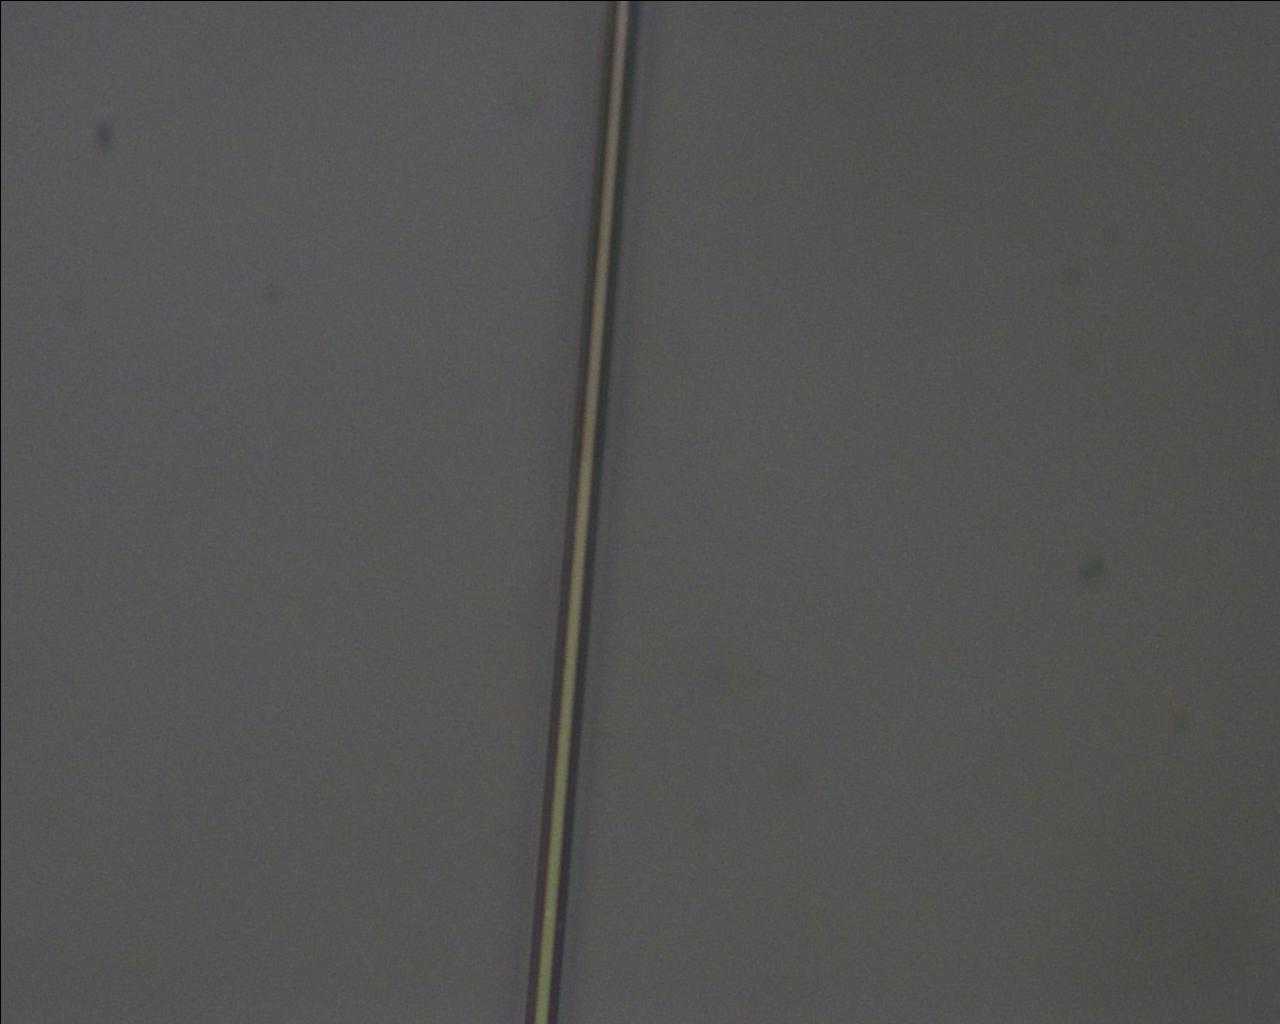fiber: (522, 0, 636, 1024)
